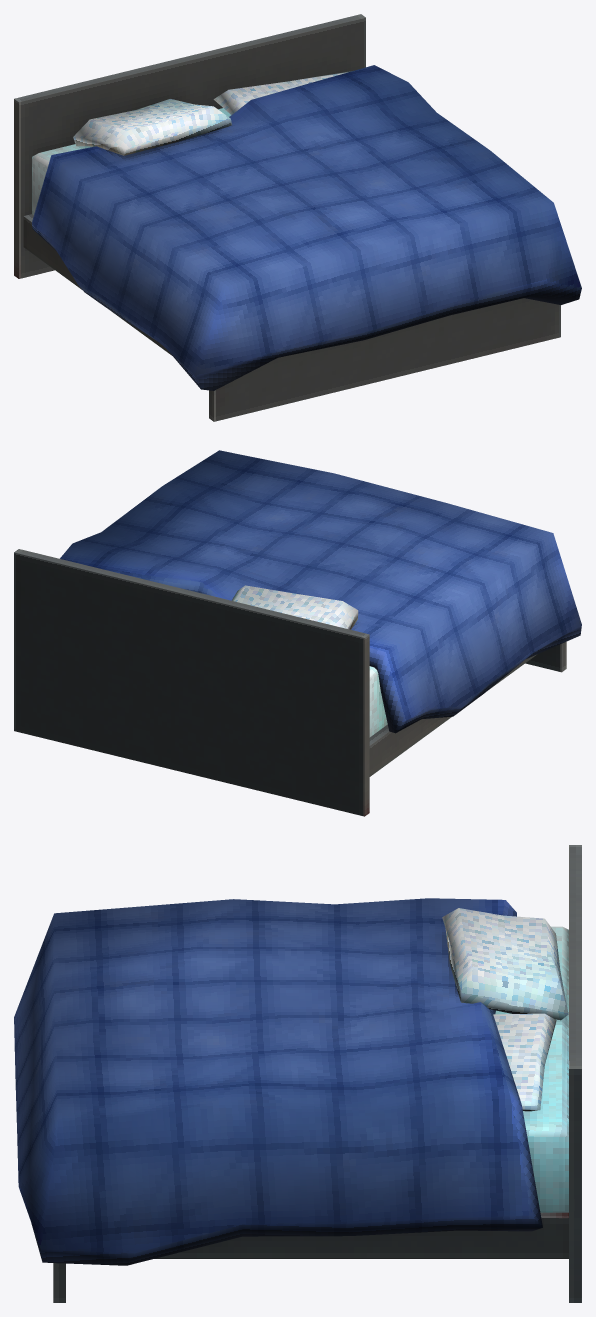
File: bed.glb
The picture shows the model from 3 angles, top to bottom: view 1: azimuth 30°, elevation 25°; view 2: azimuth 150°, elevation 25°; view 3: azimuth 270°, elevation 25°; orthographic projection. The views are drawn at different scales.
Visible parts, largest first — view 1: Bed_Bed_0; view 2: Bed_Bed_0; view 3: Bed_Bed_0.
Boxes of the visible parts, x1,y1,x2,y2 form: Bed_Bed_0: (14,14,581,421); Bed_Bed_0: (14,450,581,816); Bed_Bed_0: (14,845,581,1302).
Size of the model in its own units: 28.84 by 12.7 by 27.97.
1 material, 1 textured.
